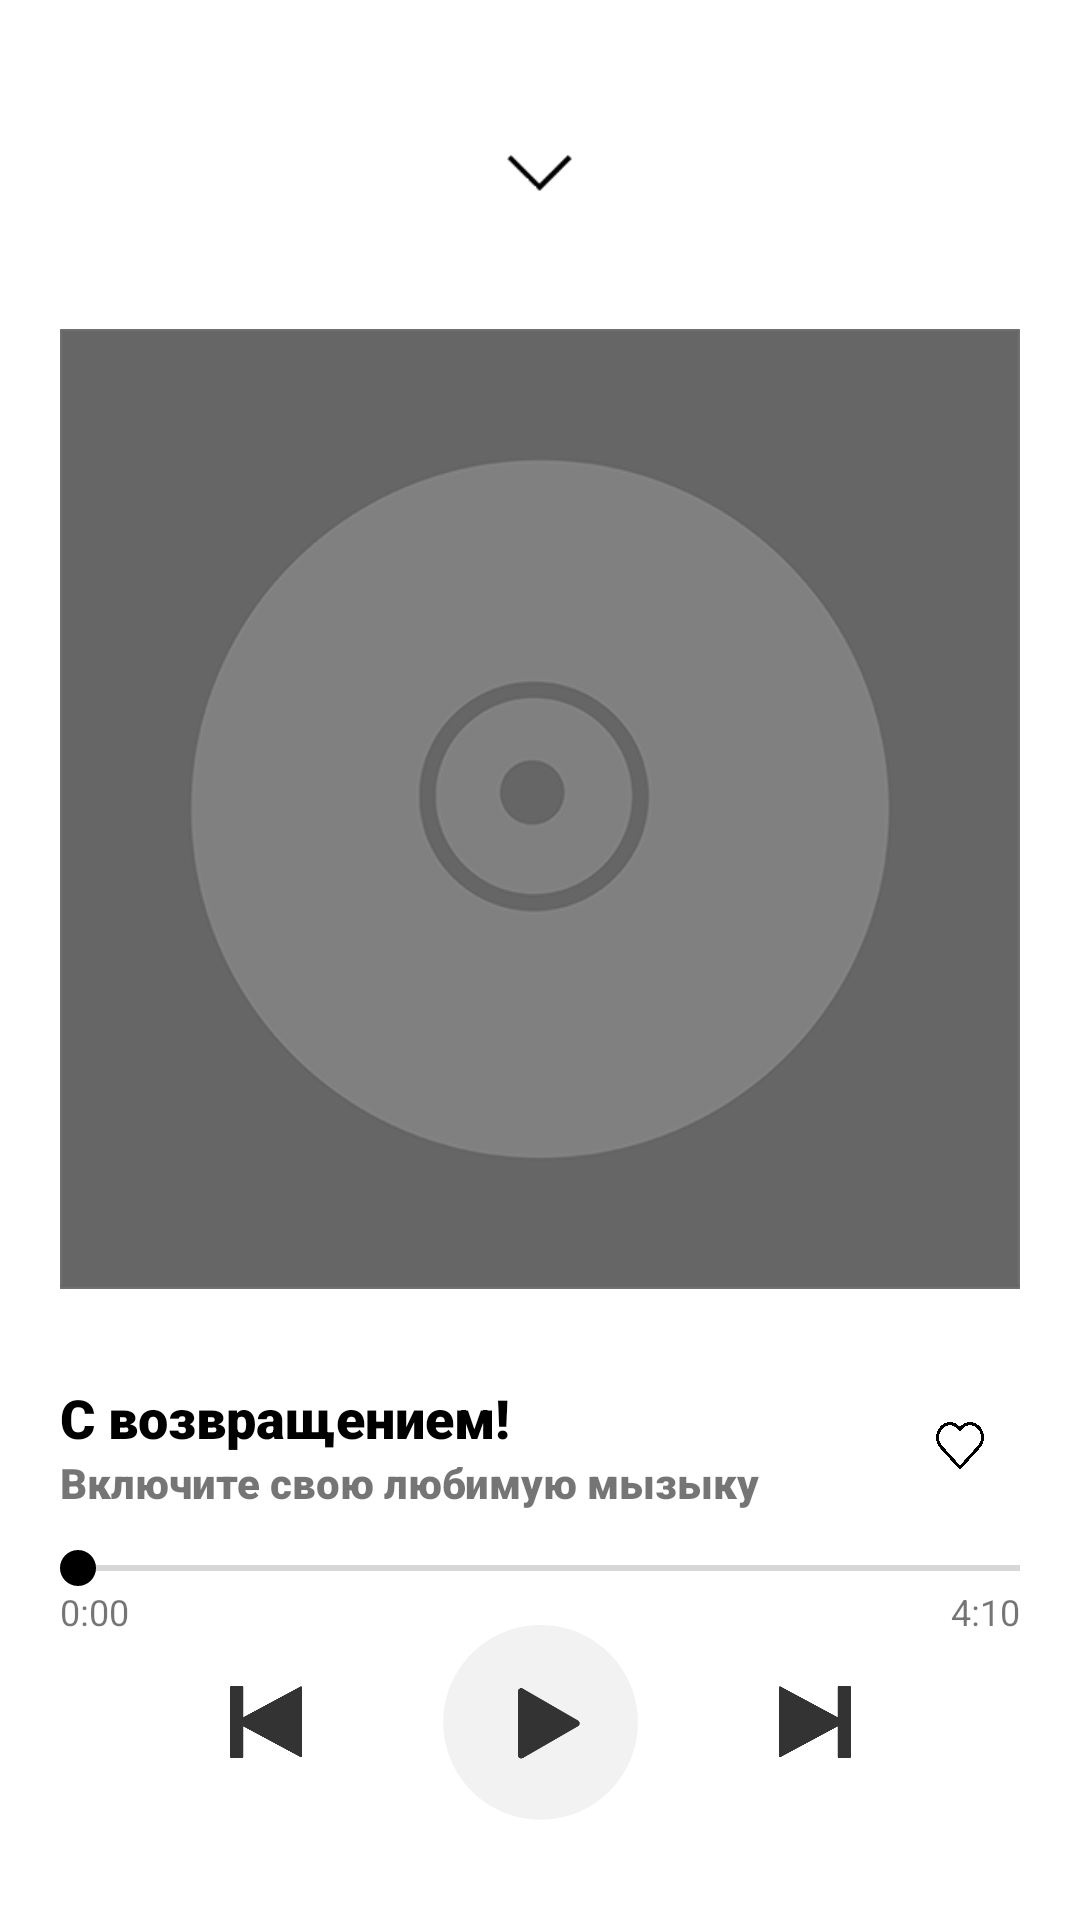

Where icons sit on this 1080*1920 app screen, as [left=x1, top=y1, right=x2, bottom=y2]:
heart: [left=936, top=1422, right=984, bottom=1469]
play: [left=518, top=1688, right=580, bottom=1759]
